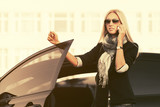talk: (106, 17, 125, 41)
